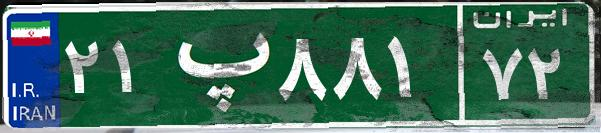1: (385, 28, 445, 110), (110, 28, 158, 105)
2: (57, 26, 110, 107), (525, 38, 570, 115)
7: (475, 38, 525, 113)
8: (273, 28, 330, 110), (330, 28, 385, 110)
پ: (158, 15, 273, 115)
